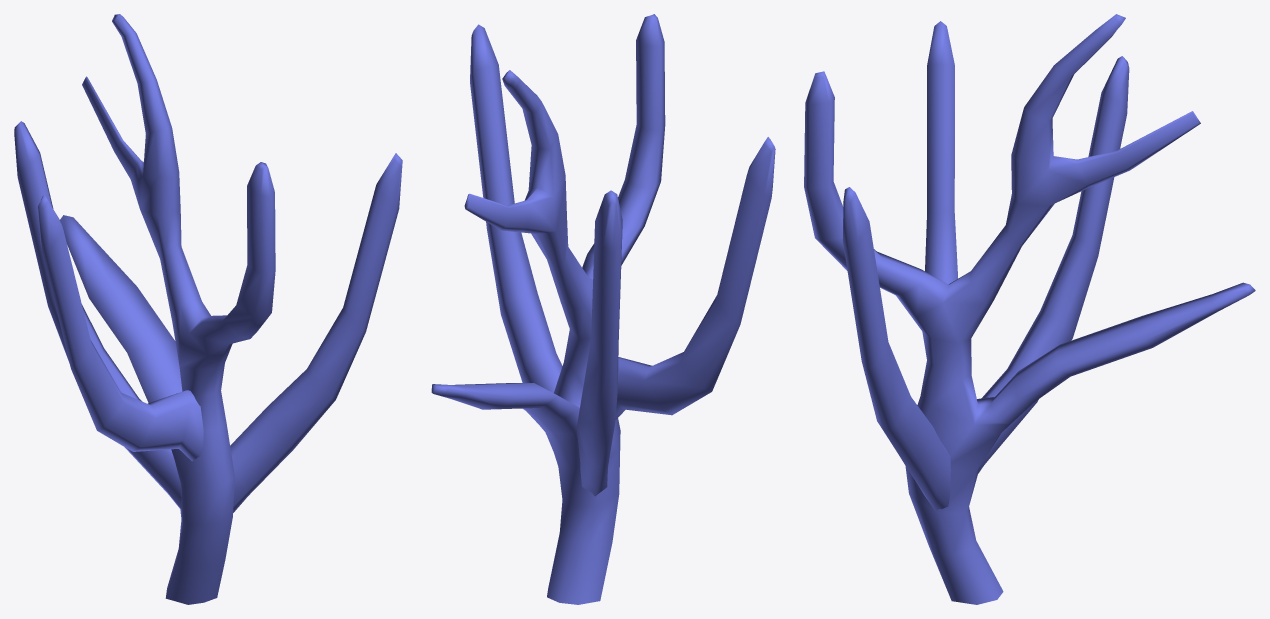
The model's file is Coral04.fbx.
3 renders of one model, left to right at view 1: azimuth 30°, elevation 25°; view 2: azimuth 150°, elevation 25°; view 3: azimuth 270°, elevation 25°, orthographic. The views are drawn at different scales.
Parts seen in each view (by area): view 1: Coral02; view 2: Coral02; view 3: Coral02.
Boxes of the visible parts, left/top/right/bottom form: Coral02: left=14, top=14, right=402, bottom=604; Coral02: left=431, top=14, right=775, bottom=604; Coral02: left=804, top=14, right=1255, bottom=604.
Size of the model in its own units: 71.68 by 114 by 80.85.
